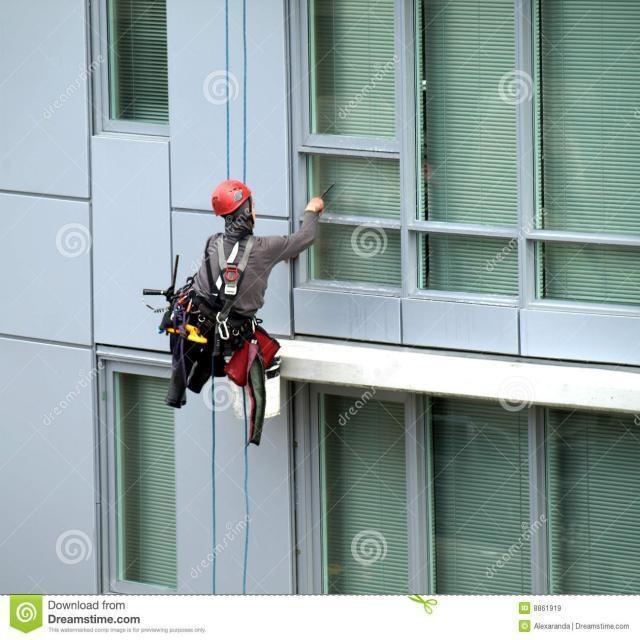Arnes_seguridad: (199, 227, 265, 366)
